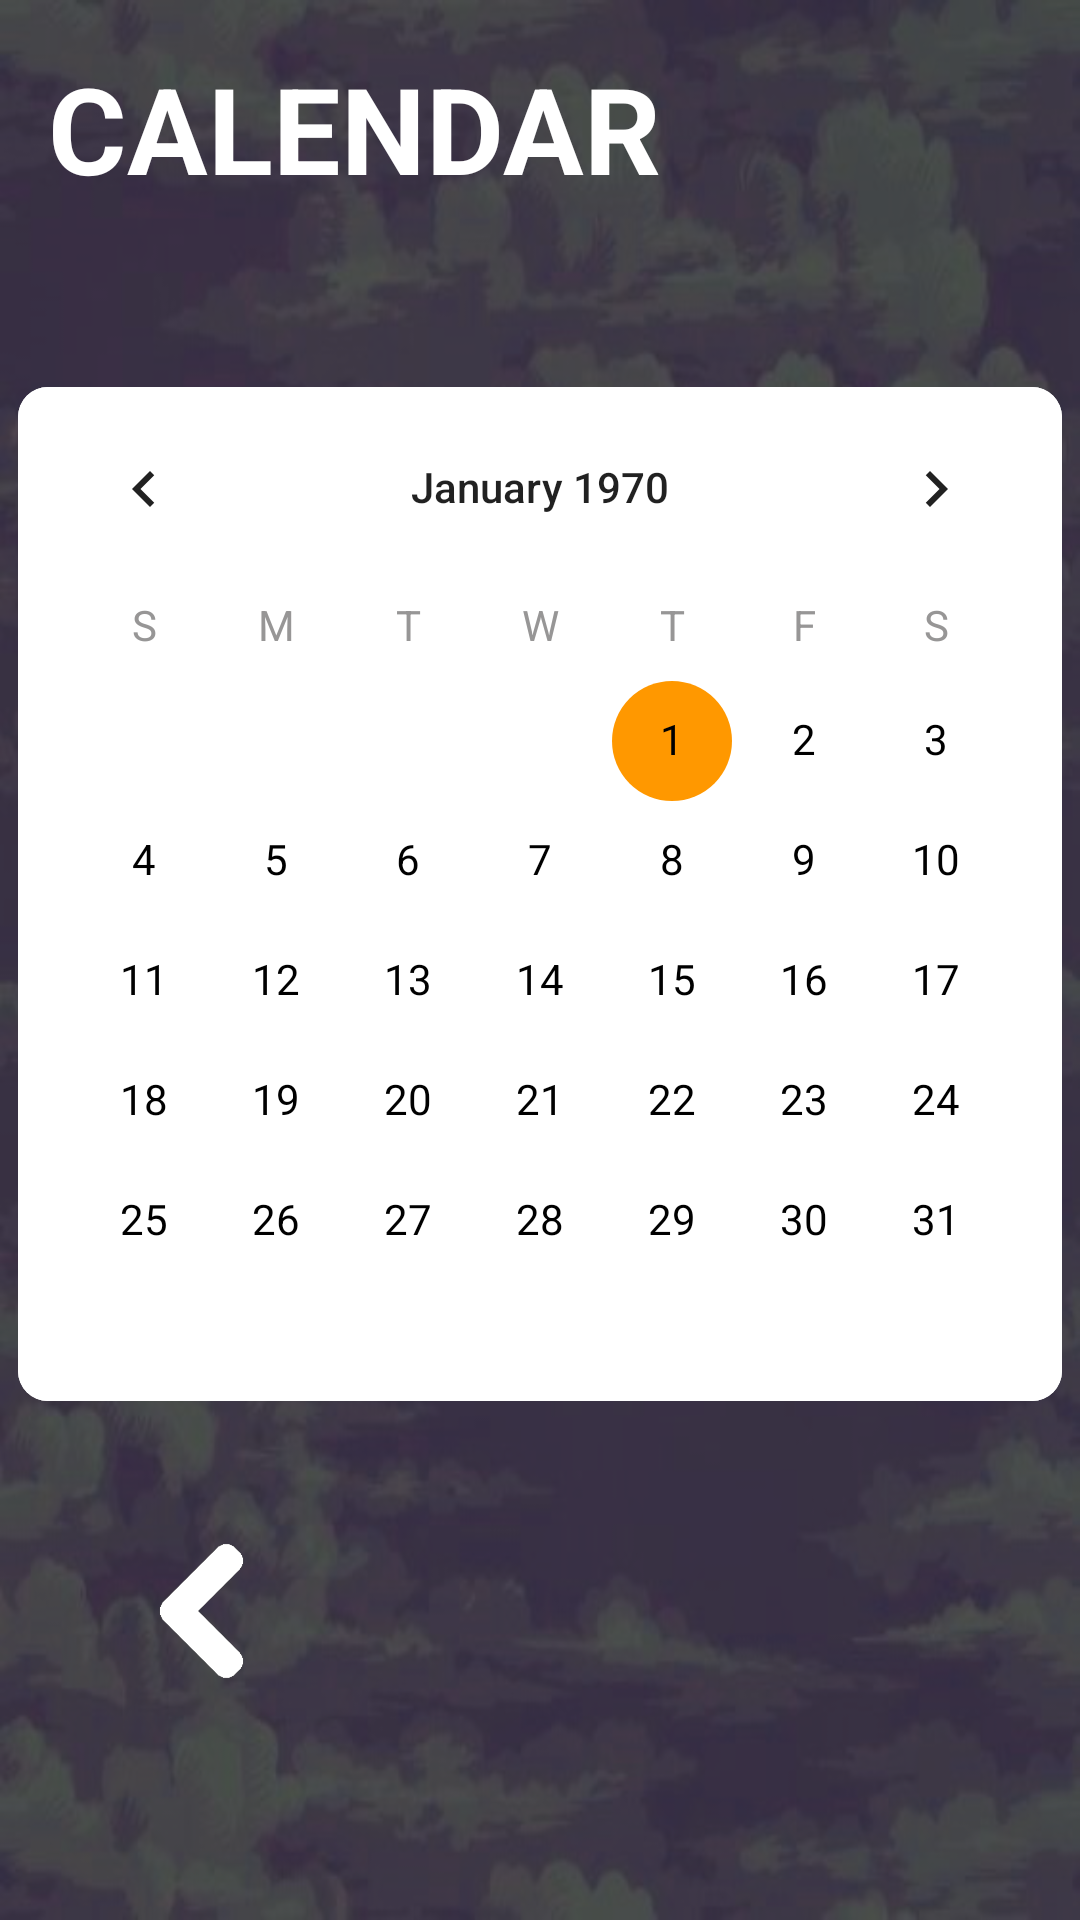

Icon bounding boxes for this 1080w x 1920h phone screenshot, format bbox(x1, y1, x2, y2):
left arrow: bbox(160, 1544, 243, 1678)
